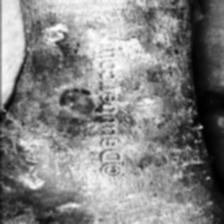Non-Cancerous Skin Condition: (124, 122, 198, 170), (56, 82, 98, 120), (40, 25, 68, 46), (19, 172, 43, 190)
